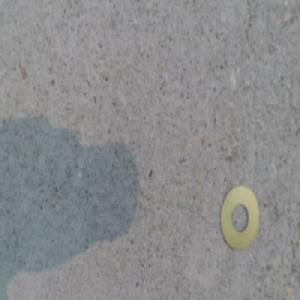Washer: (216, 185, 256, 251)
